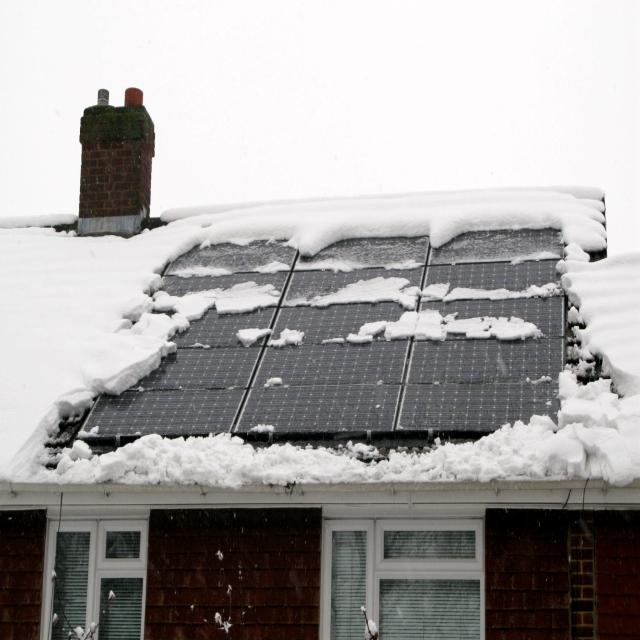panel: (90, 274, 178, 426), (178, 270, 306, 370), (320, 248, 554, 298), (336, 304, 532, 359), (406, 183, 560, 238), (156, 205, 274, 272), (279, 183, 395, 246), (480, 390, 578, 442), (240, 367, 302, 434)
